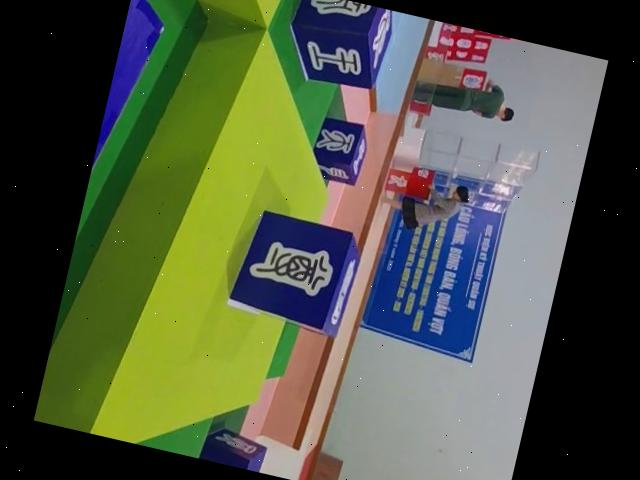R2 Fake Blue: (224, 206, 365, 338), (276, 0, 394, 95), (305, 114, 372, 187), (191, 423, 267, 473)
